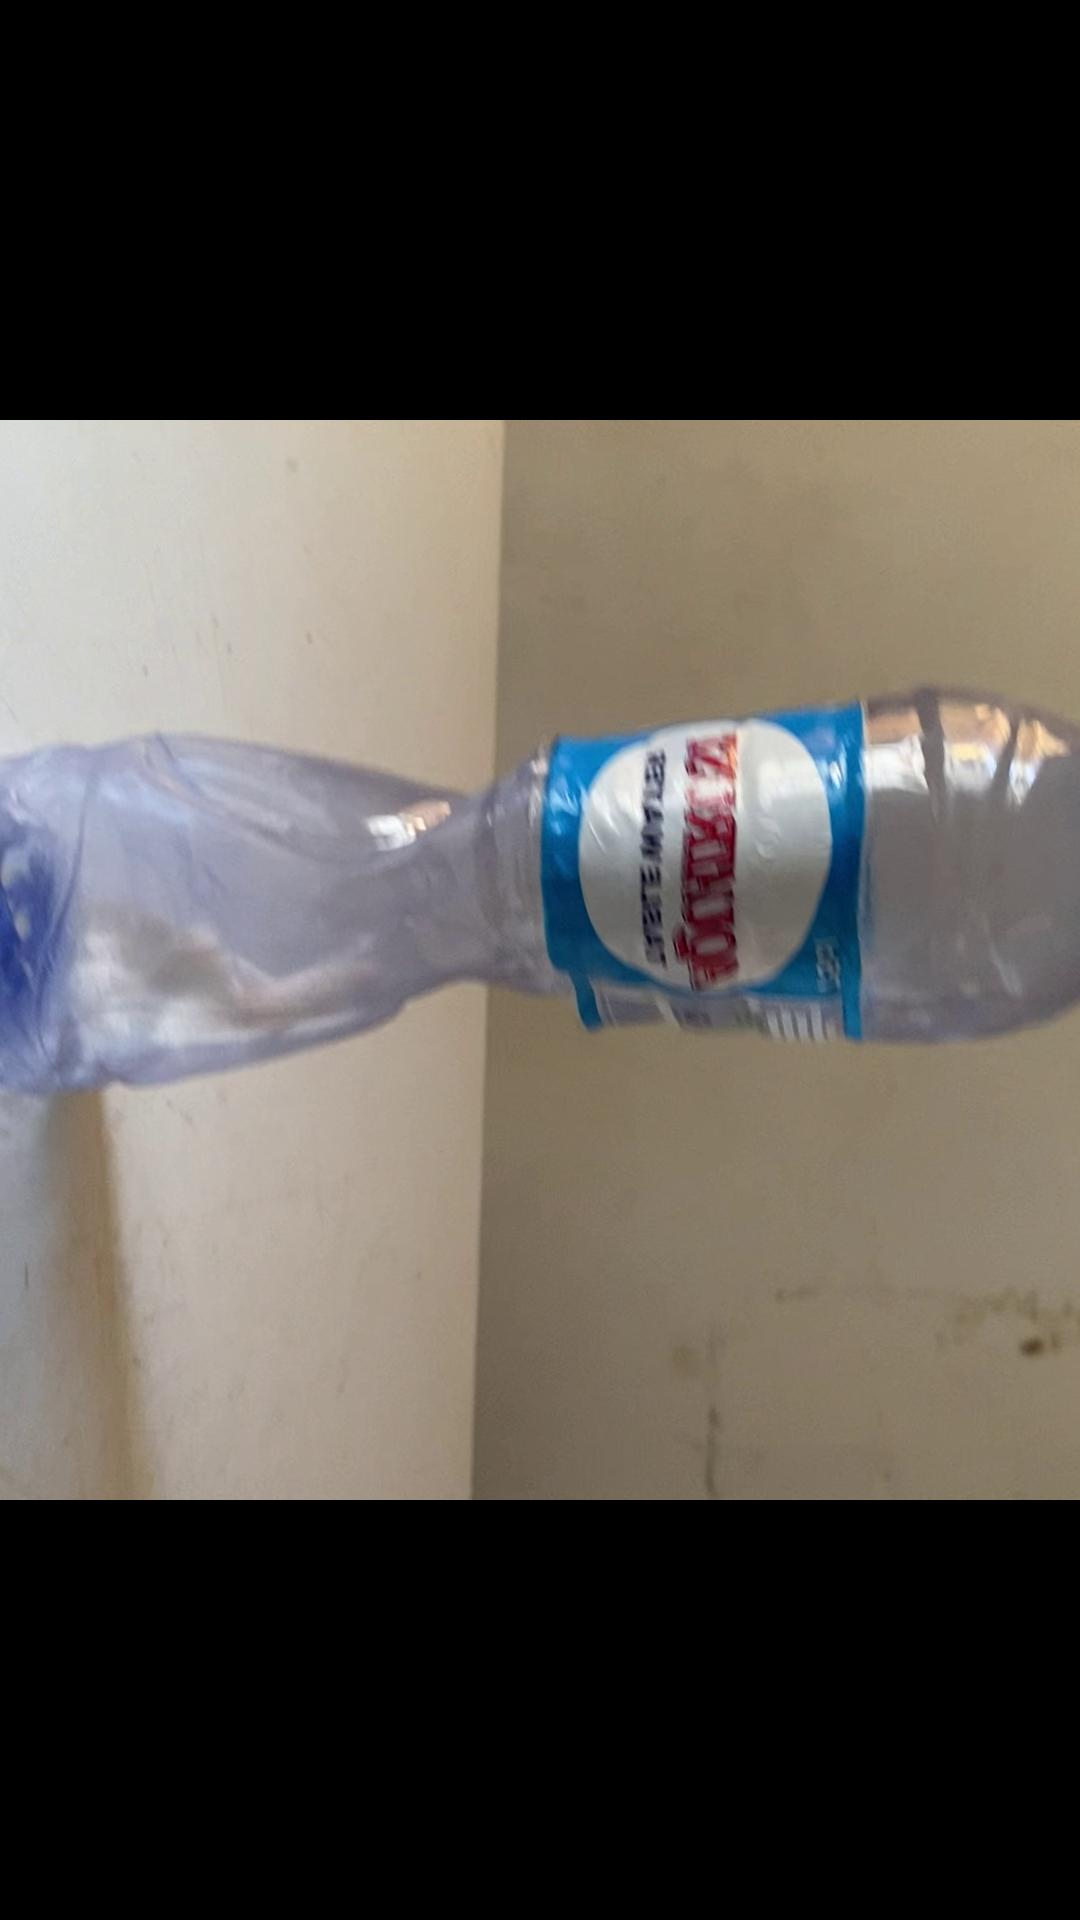crumbled: (0, 690, 1080, 1116)
label: (545, 708, 862, 1046)
